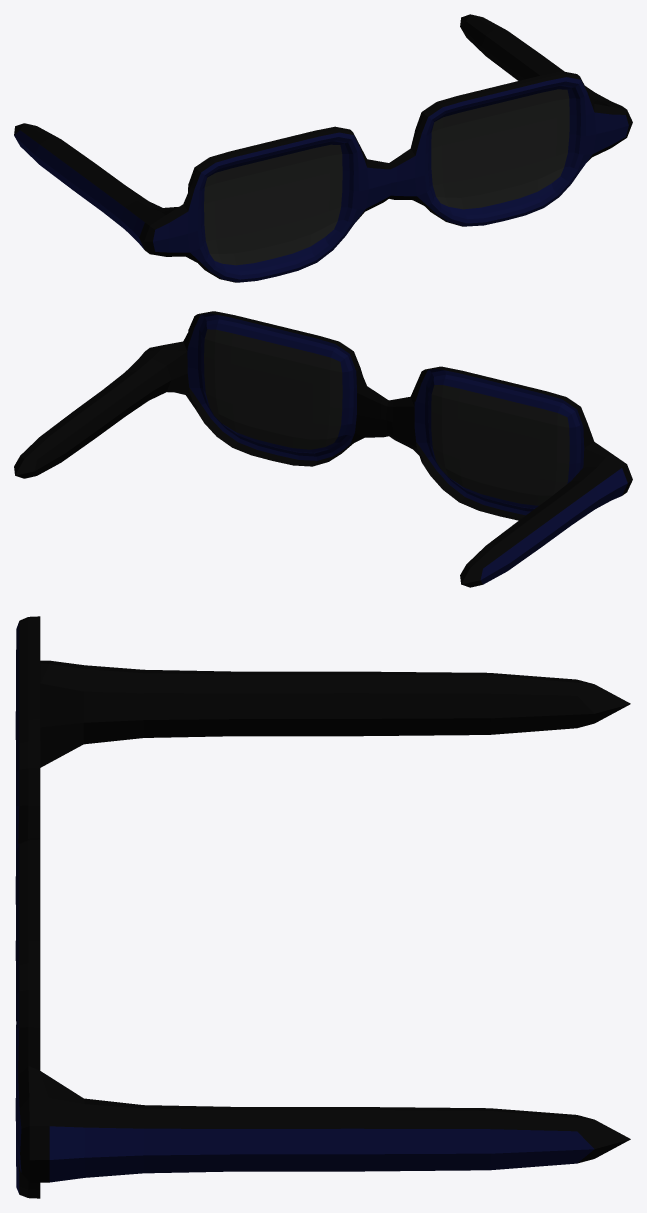
File: polis_shades.fbx
3 renders of one model, top to bottom at view 1: azimuth 30°, elevation 25°; view 2: azimuth 150°, elevation 25°; view 3: azimuth 270°, elevation 25°, orthographic. The views are drawn at different scales.
Parts seen in each view (by area): view 1: Circle.001; view 2: Circle.001; view 3: Circle.001.
Part boxes in pixels (x1,y1,x2,y2): Circle.001: (14,14,632,282); Circle.001: (14,311,632,587); Circle.001: (15,616,630,1198).
Size of the model in its own units: 158 by 41.22 by 86.28.
Materials: 1 (1 with a texture image).
